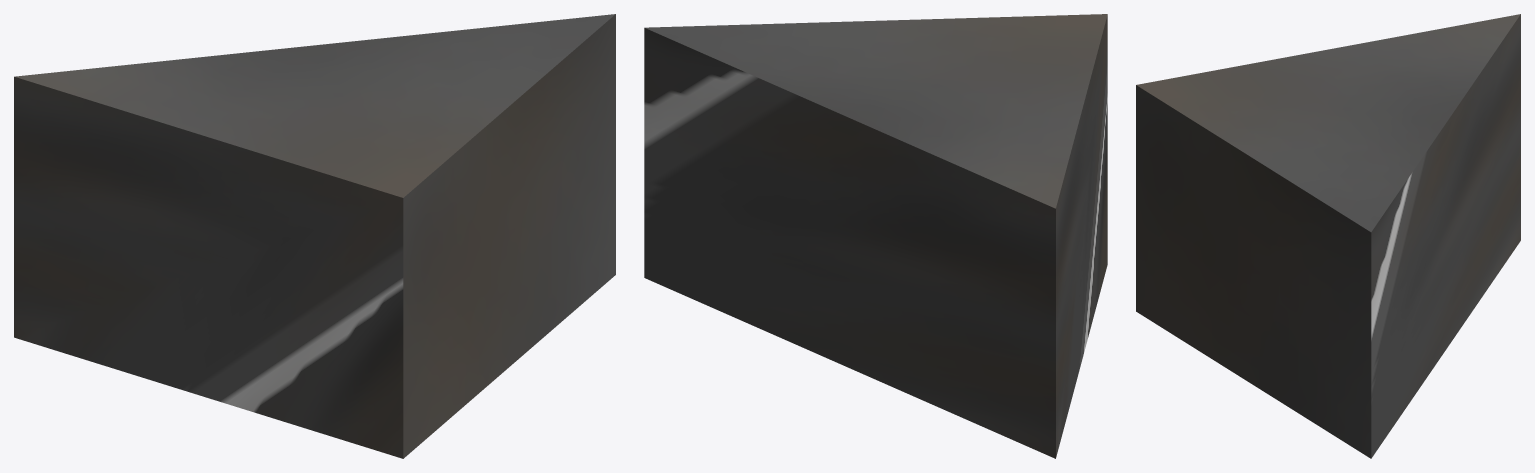
Rendered from ishi_01_7_4.fbx.
The picture shows the model from 3 angles, left to right: view 1: azimuth 30°, elevation 25°; view 2: azimuth 150°, elevation 25°; view 3: azimuth 270°, elevation 25°; orthographic projection. The views are drawn at different scales.
Parts seen in each view (by area): view 1: polySurface9; view 2: polySurface9; view 3: polySurface9.
Part boxes in pixels (x1=…): polySurface9: x1=14, y1=14, x2=615, y2=458; polySurface9: x1=644, y1=14, x2=1107, y2=458; polySurface9: x1=1136, y1=14, x2=1520, y2=458.
Size of the model in its own units: 9.63 by 4.66 by 7.17.
1 material, 1 textured.
